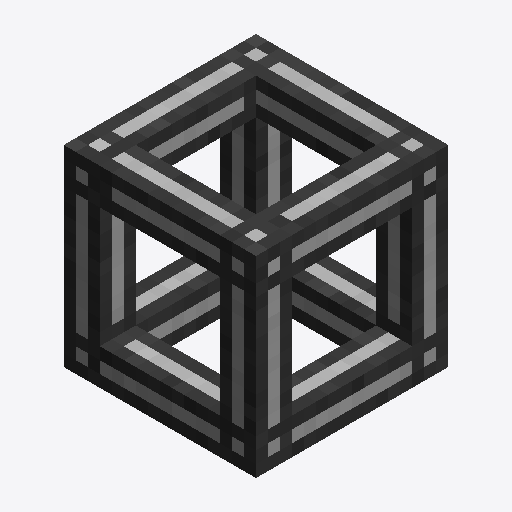
Isometric view (azimuth 45°, elevation 35.3°) of a Minecraft model made of 12 cuboids, textured from the same repository.
Parts seen in each view (by area): element 2, element 12, element 4, element 1, element 10, element 11, element 8, element 7, element 9, element 3, element 5, element 6.
Part boxes in pixels (bbox=[...]): element 2: bbox=[100, 145, 291, 296]; element 12: bbox=[256, 124, 447, 276]; element 4: bbox=[64, 55, 255, 206]; element 1: bbox=[100, 326, 291, 477]; element 10: bbox=[220, 34, 411, 165]; element 11: bbox=[292, 326, 447, 456]; element 8: bbox=[220, 277, 291, 435]; element 7: bbox=[64, 187, 135, 345]; element 9: bbox=[376, 187, 447, 345]; element 3: bbox=[64, 256, 219, 387]; element 5: bbox=[292, 256, 375, 345]; element 6: bbox=[220, 118, 291, 213].
Bounding box in the file's own units: 16 × 16 × 16.